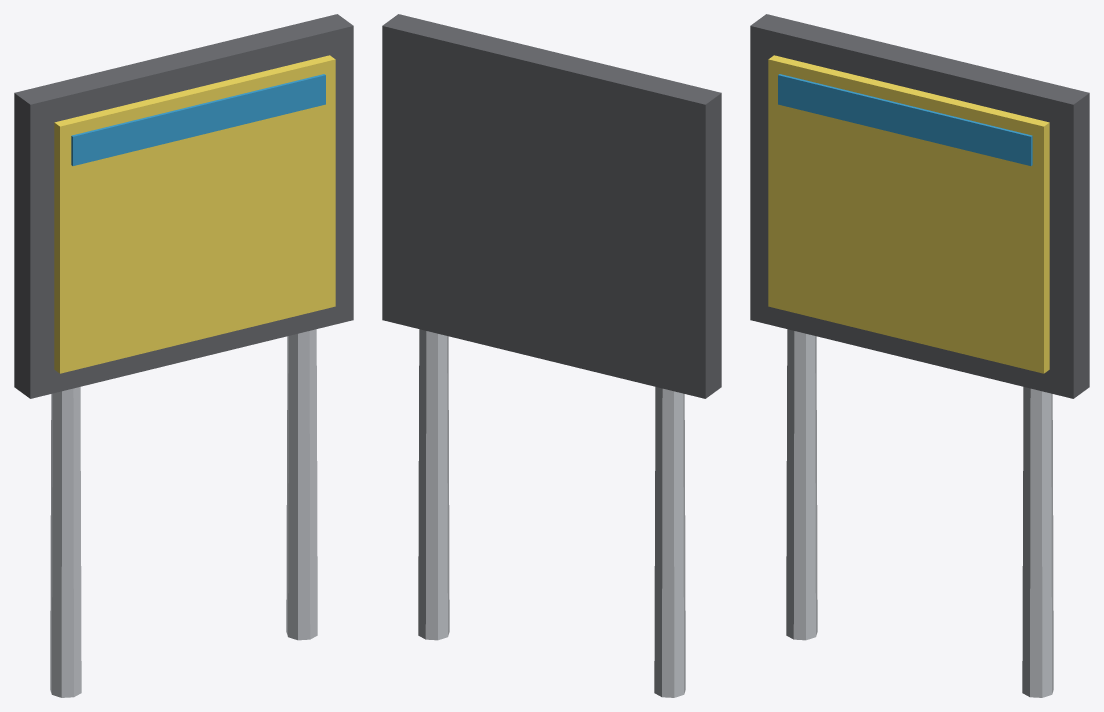
File: bus-station-and-city-transit-timetable-case-1f28fc24__34222.glb
3 views of the same model, side by side, from view 1: azimuth 30°, elevation 25°; view 2: azimuth 150°, elevation 25°; view 3: azimuth 330°, elevation 25° (orthographic).
Parts seen in each view (by area): view 1: timetable-case-canary, timetable-case-charcoal, timetable-case-steel, timetable-case-azure; view 2: timetable-case-charcoal, timetable-case-steel; view 3: timetable-case-canary, timetable-case-charcoal, timetable-case-steel, timetable-case-azure.
Part boxes in pixels (<box>): timetable-case-canary: <box>54,55,335,373</box>; timetable-case-charcoal: <box>14,14,353,398</box>; timetable-case-steel: <box>50,329,317,697</box>; timetable-case-azure: <box>71,74,325,165</box>; timetable-case-charcoal: <box>382,14,721,398</box>; timetable-case-steel: <box>418,329,685,697</box>; timetable-case-canary: <box>768,55,1049,373</box>; timetable-case-charcoal: <box>750,14,1089,398</box>; timetable-case-steel: <box>786,329,1053,697</box>; timetable-case-azure: <box>778,74,1032,165</box>.
Bounding box in the file's own units: 1.15 × 2.05 × 0.145.
